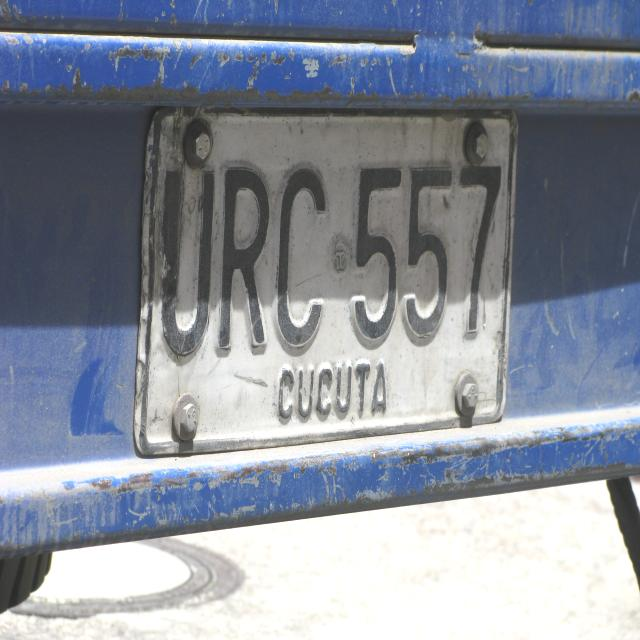placa: (131, 80, 522, 468)
